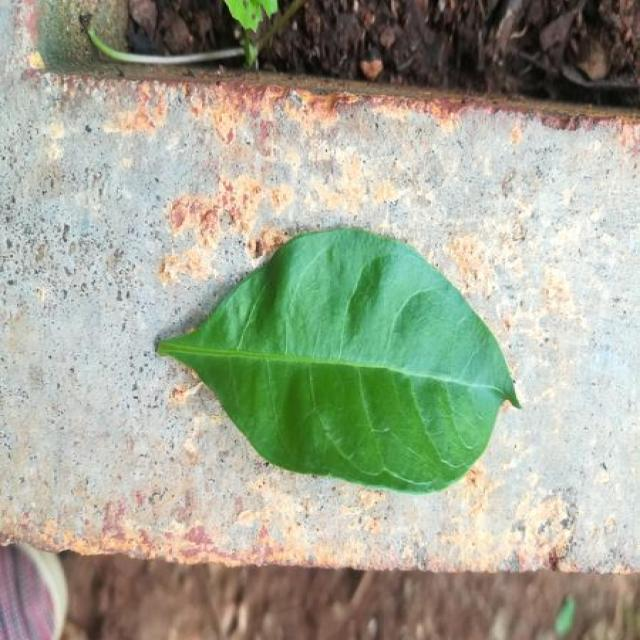henna: (158, 229, 520, 493)
